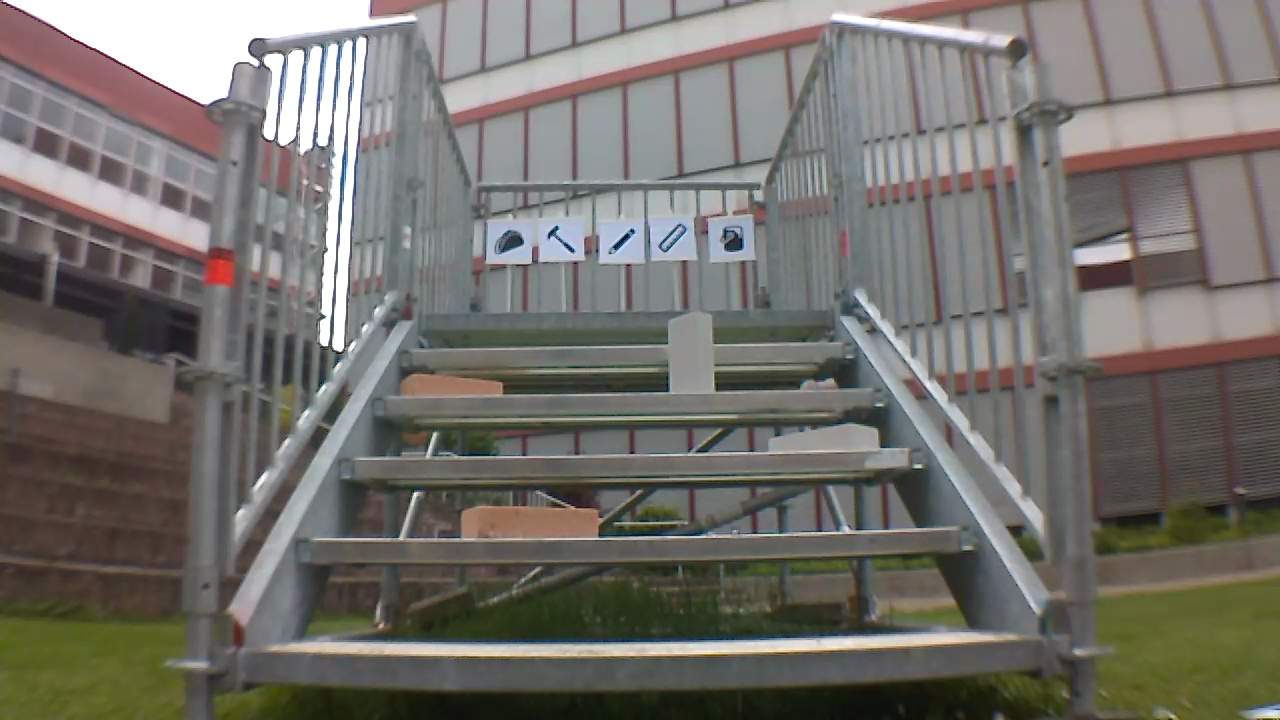brick: (461, 505, 597, 538), (669, 312, 714, 393), (770, 424, 878, 450), (401, 375, 501, 396)
bucket: (714, 221, 746, 254)
edge: (246, 638, 1041, 689), (298, 527, 977, 563), (339, 448, 932, 477), (372, 388, 890, 411), (399, 342, 858, 362), (423, 309, 836, 326)
hammer: (541, 222, 581, 258)
pencil: (604, 225, 639, 260)
ruler: (655, 217, 692, 257)
stairs: (172, 14, 1112, 715)
steps: (240, 302, 1048, 698)
taco: (489, 225, 526, 258)
